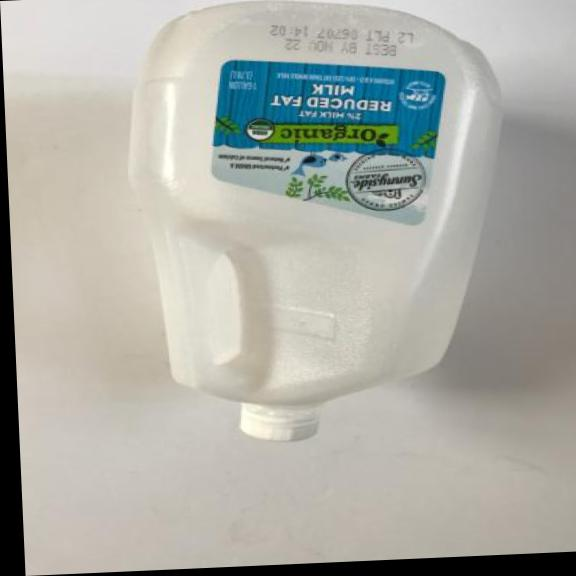Plastik: (117, 0, 520, 451)
